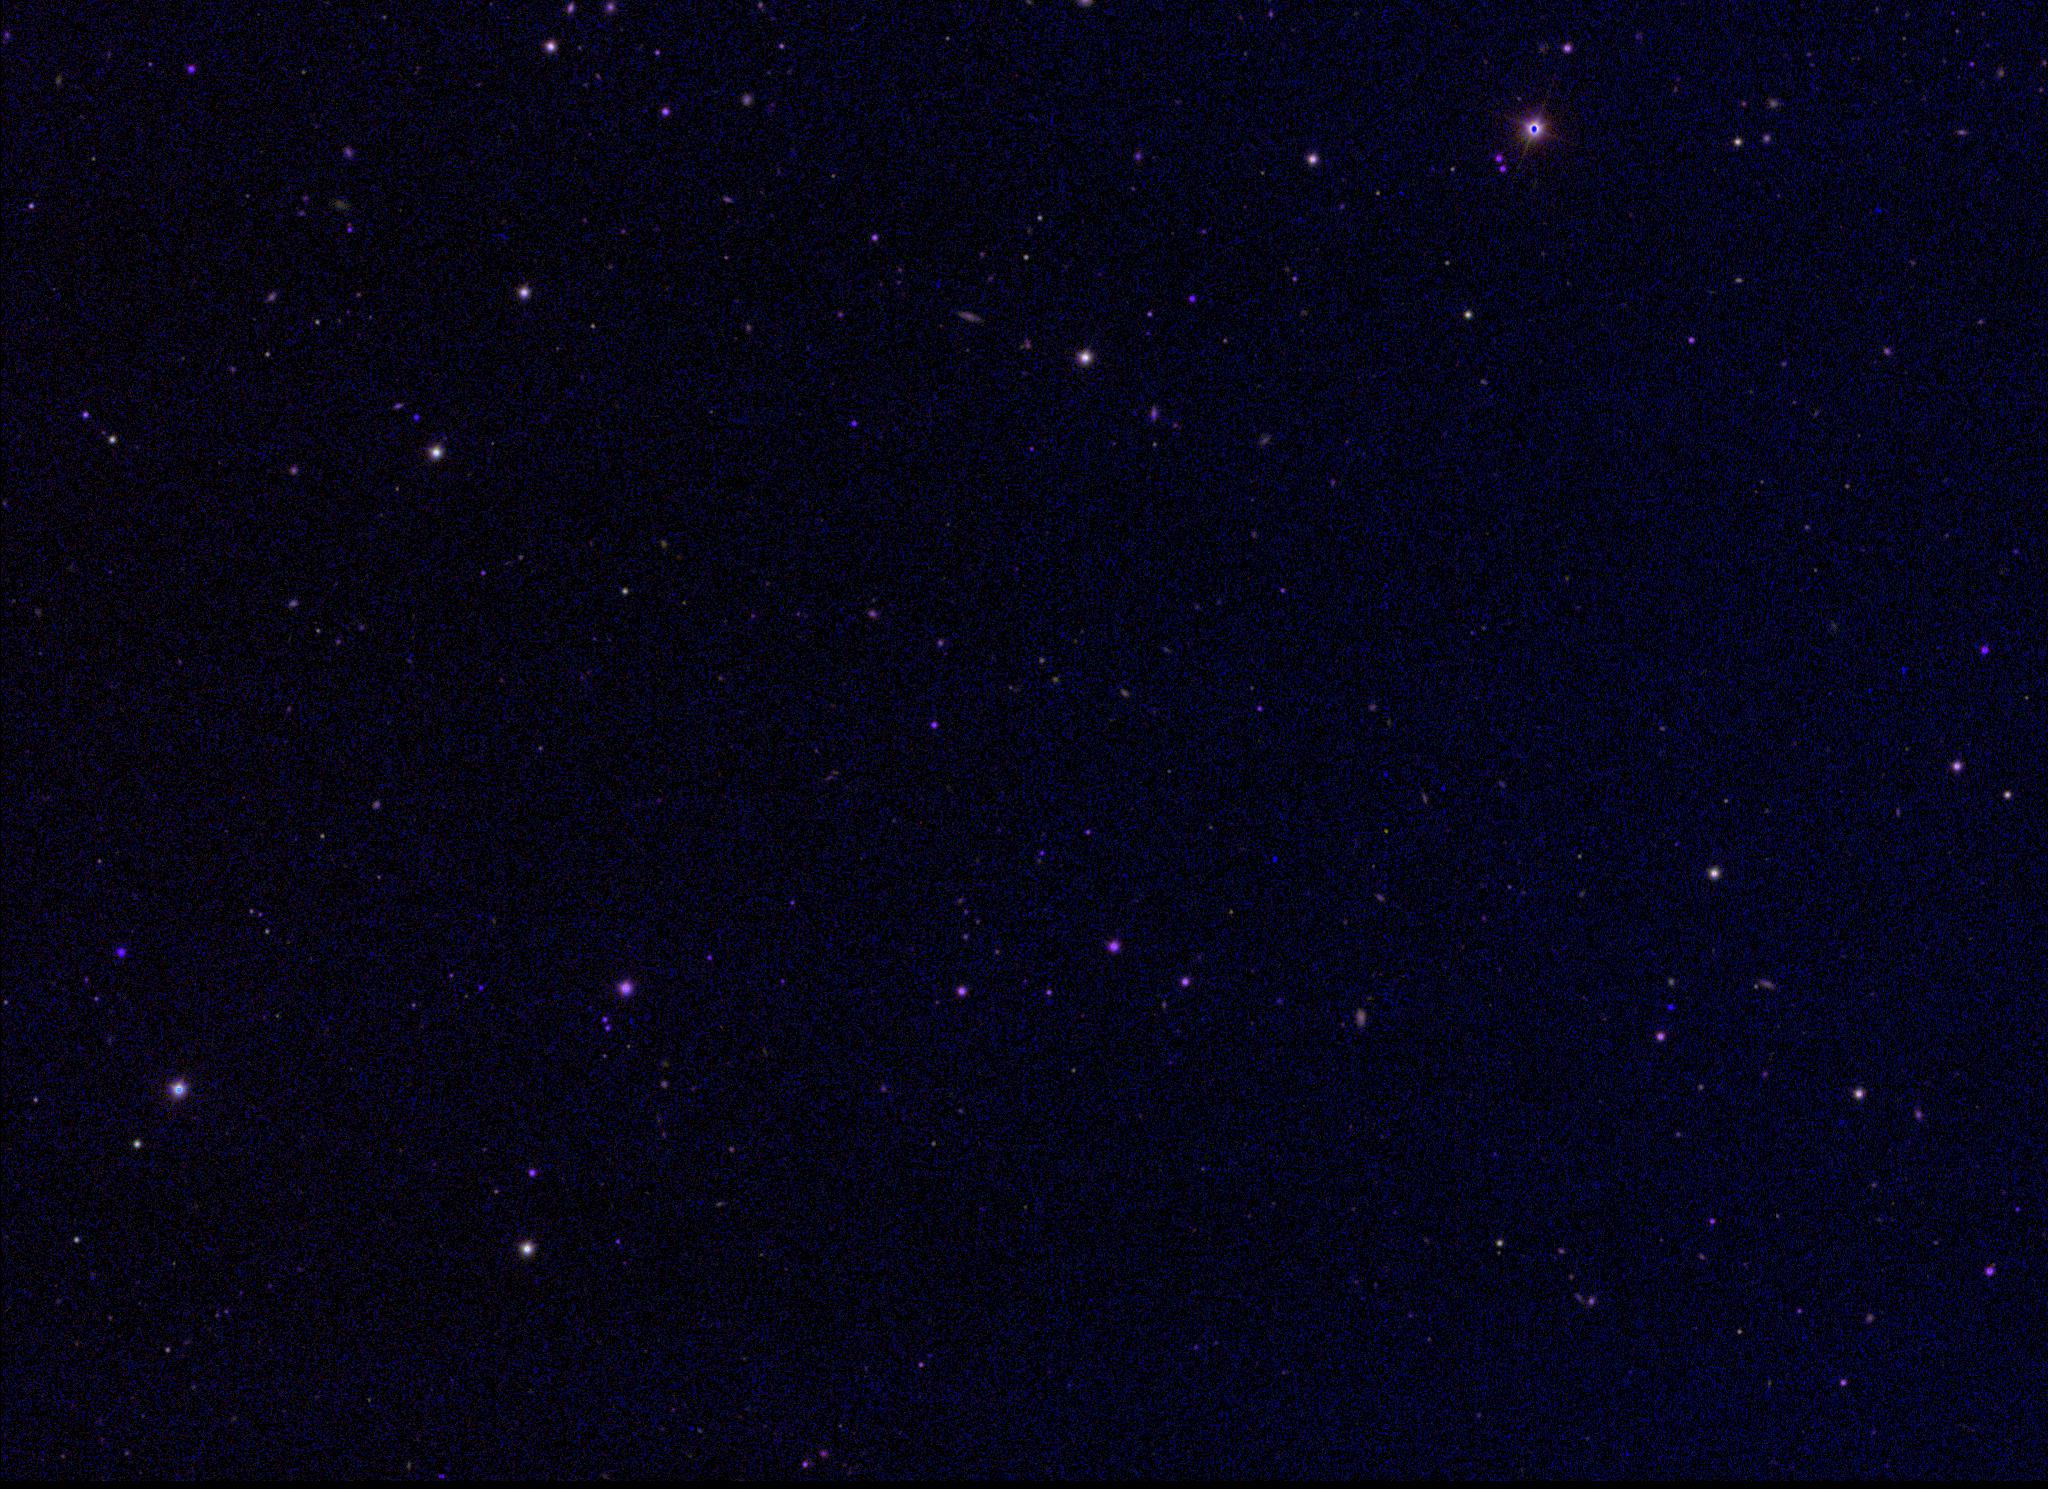L: (1662, 999, 1676, 1013)
